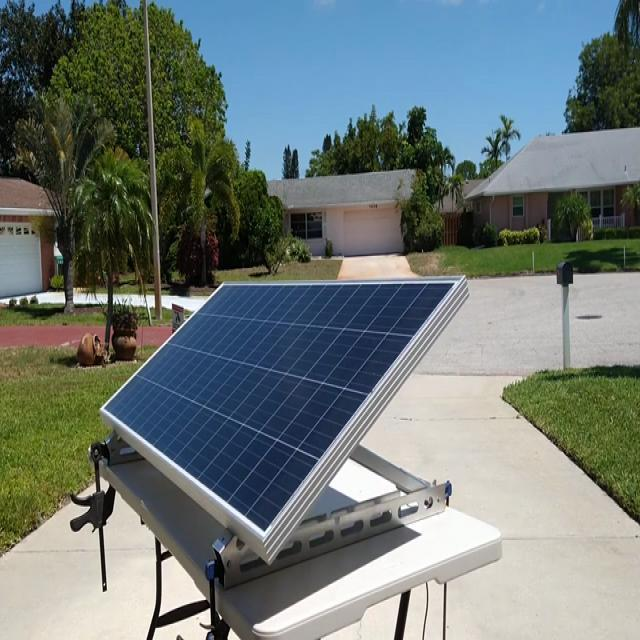Normal Solar Panel: (102, 278, 463, 542)
